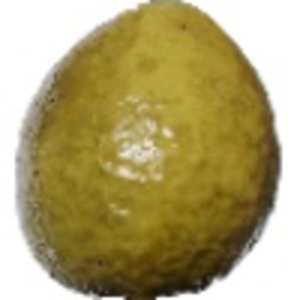goiaba: (12, 2, 279, 298)
